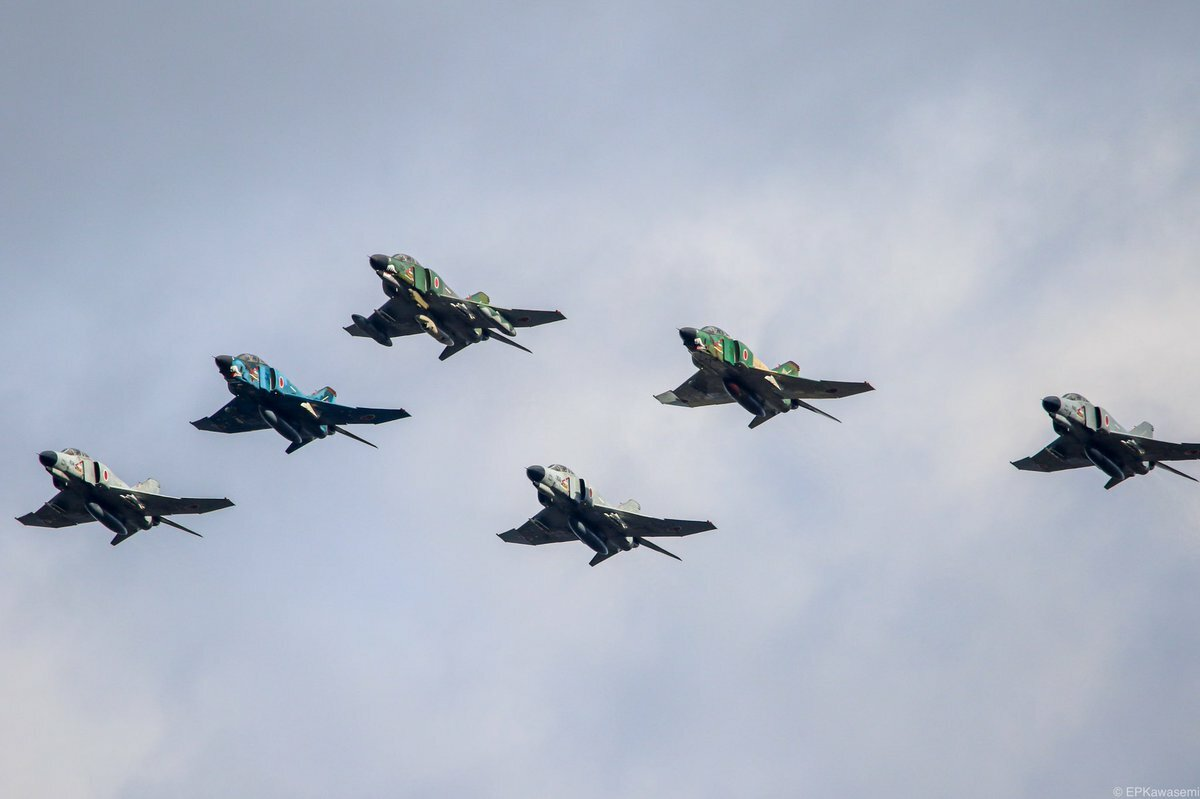F4: (341, 252, 567, 361), (652, 325, 877, 430), (495, 463, 719, 568), (188, 352, 412, 455), (14, 447, 236, 546), (1009, 392, 1200, 490)
